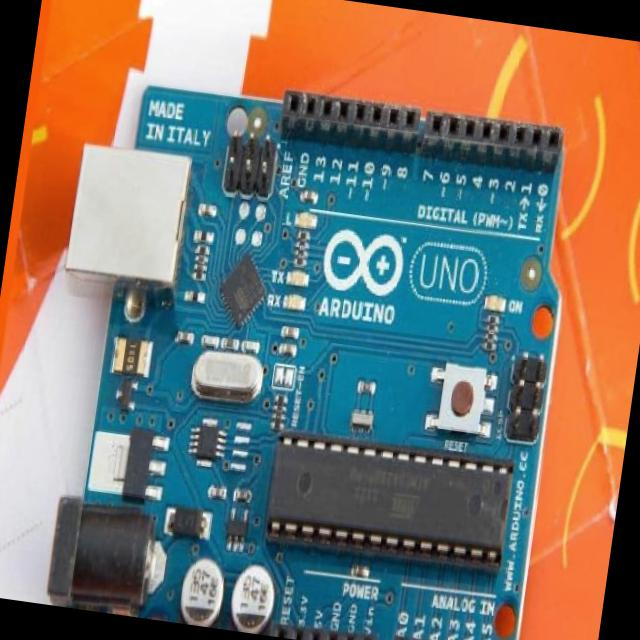arduino: (20, 55, 600, 640)
